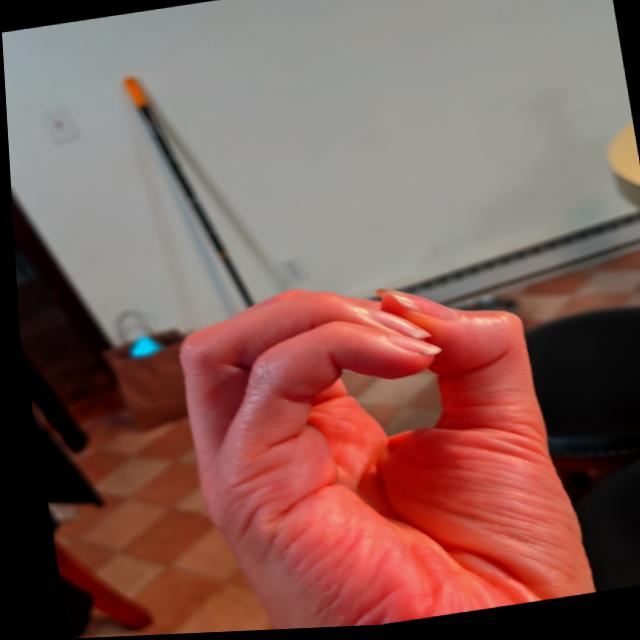O: (154, 248, 607, 634)
